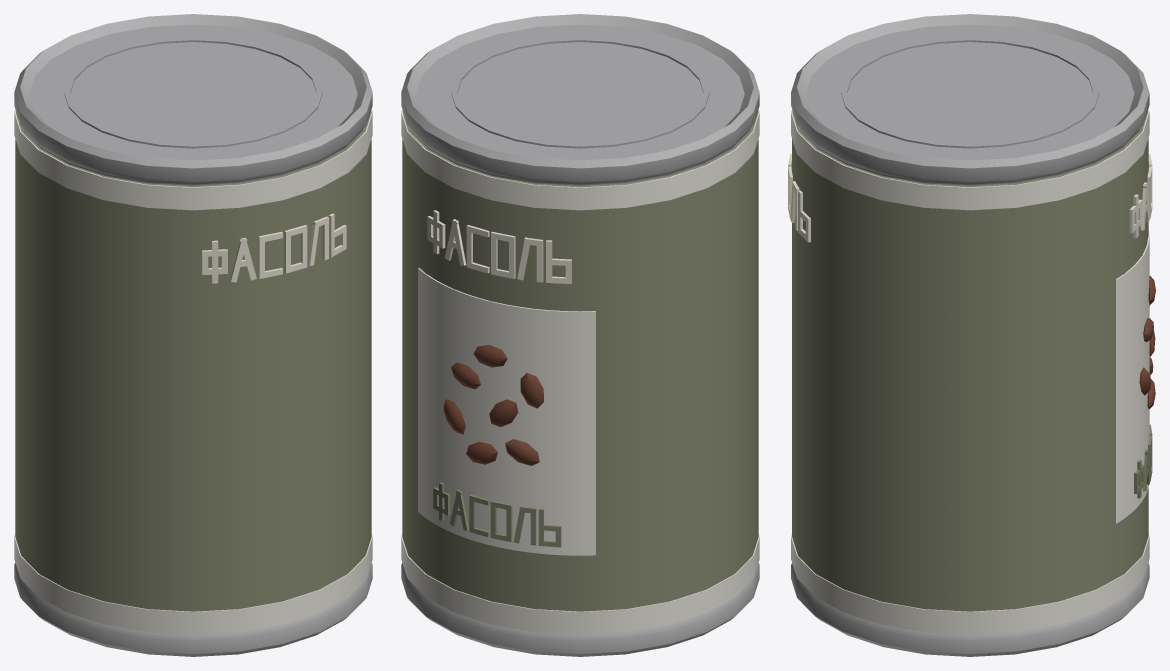
File: canned_beans.glb
The picture shows the model from 3 angles, left to right: view 1: azimuth 30°, elevation 25°; view 2: azimuth 150°, elevation 25°; view 3: azimuth 270°, elevation 25°; orthographic projection.
Visible parts, largest first — view 1: body; view 2: body; view 3: body.
Part boxes in pixels (x1,y1,x2,y2): body: (14, 14, 372, 656); body: (401, 14, 759, 656); body: (788, 14, 1155, 656).
Bounding box in the file's own units: 0.072 × 0.11 × 0.0739.
